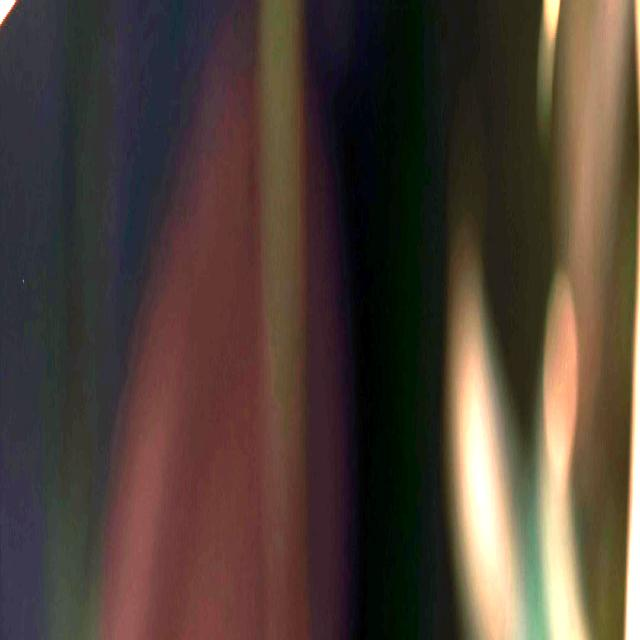BLB: (0, 0, 11, 16)
